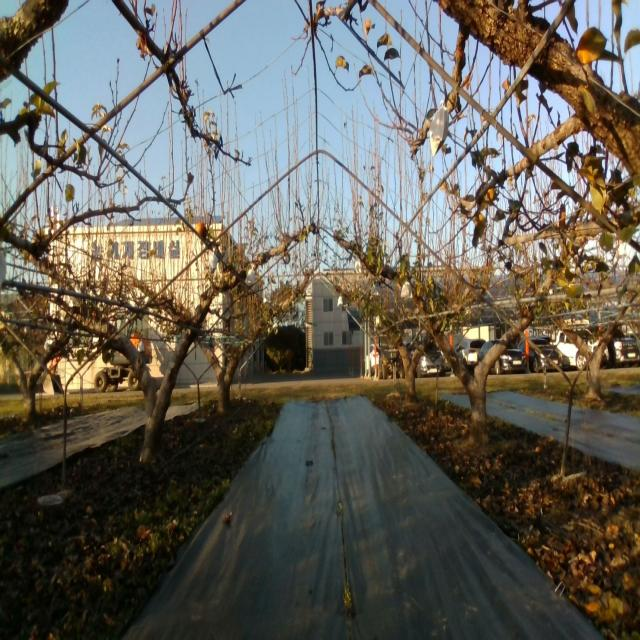pearbags: (429, 100, 449, 158), (208, 247, 218, 275), (400, 281, 413, 299)
